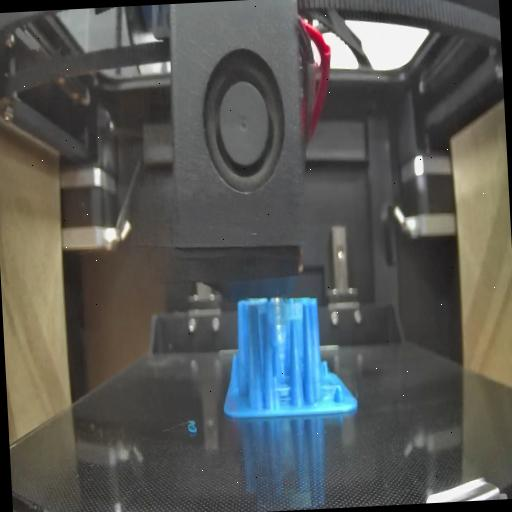stringing: (257, 296, 302, 324), (274, 378, 292, 408), (322, 379, 340, 398)
